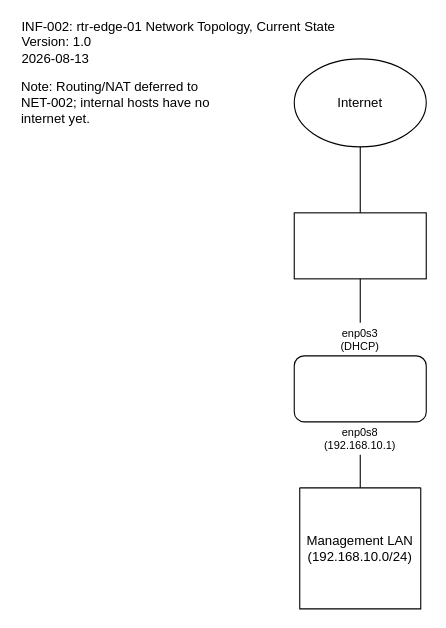
Some shapes in this 446 by 628 pixel diagram are drawn without their labels. The centre of each missing label's shape, as x and y in pixels:
"rtr-edge-01" goes at point (359, 388).
"VirtualBox NAT" goes at point (359, 245).
